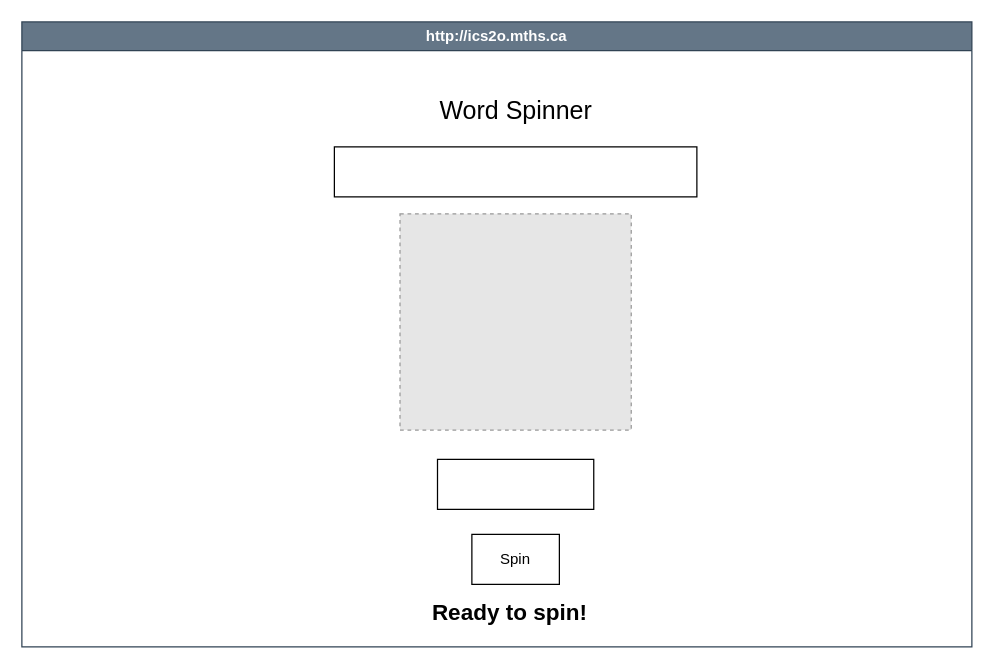
Image size: 994x669. Some labels were removed from this diagram. Grey dashed boxes stand in for pictures. Each missing label, with the centre of its shape:
"Create Spinner" goes at (515,483).
"XX,XXX,XXX" goes at (515,171).
